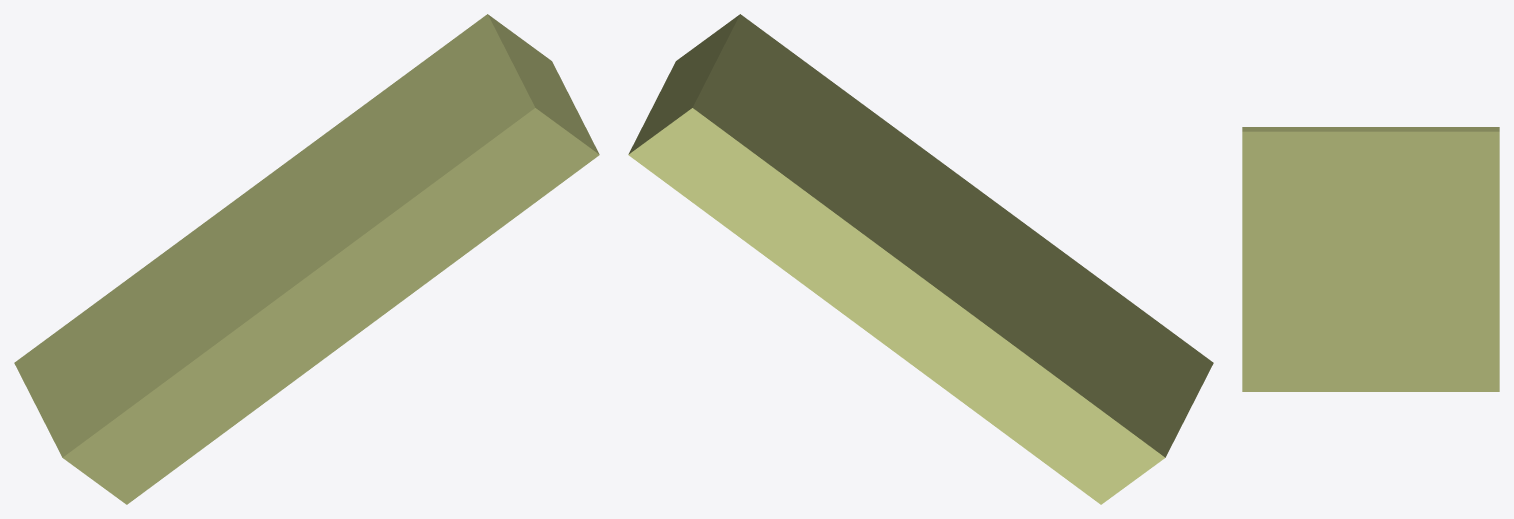
The picture shows the model from 3 angles, left to right: view 1: azimuth 30°, elevation 25°; view 2: azimuth 150°, elevation 25°; view 3: azimuth 270°, elevation 25°; orthographic projection. The views are drawn at different scales.
Visible parts, largest first — view 1: 0_1_0_2_0_2_0_2_0; view 2: 0_1_0_2_0_2_0_2_0; view 3: 0_1_0_2_0_2_0_2_0.
Boxes of the visible parts, box(x1,y1,x2,y2) form: 0_1_0_2_0_2_0_2_0: box(14, 14, 599, 504); 0_1_0_2_0_2_0_2_0: box(628, 14, 1213, 504); 0_1_0_2_0_2_0_2_0: box(1242, 127, 1499, 391).
Bounding box in the file's own units: 28.04 × 17.48 × 6.
